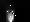person: (7, 7, 16, 22)
